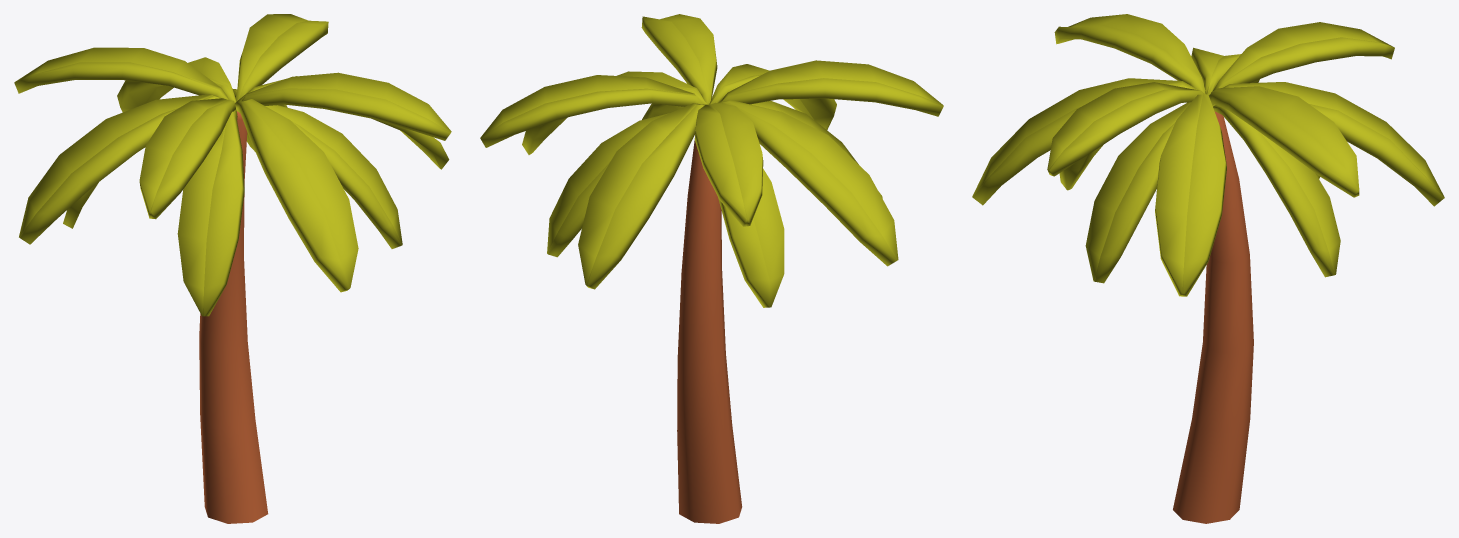
The model's file is palm_m.obj.
3 renders of one model, left to right at view 1: azimuth 30°, elevation 25°; view 2: azimuth 150°, elevation 25°; view 3: azimuth 270°, elevation 25°, orthographic. The views are drawn at different scales.
Visible parts, largest first — view 1: palm_m; view 2: palm_m; view 3: palm_m.
Boxes of the visible parts, x1=… form: palm_m: x1=14, y1=14, x2=451, y2=523; palm_m: x1=480, y1=14, x2=943, y2=523; palm_m: x1=972, y1=14, x2=1444, y2=523.
Size of the model in its own units: 3.55 by 3.68 by 3.54.
